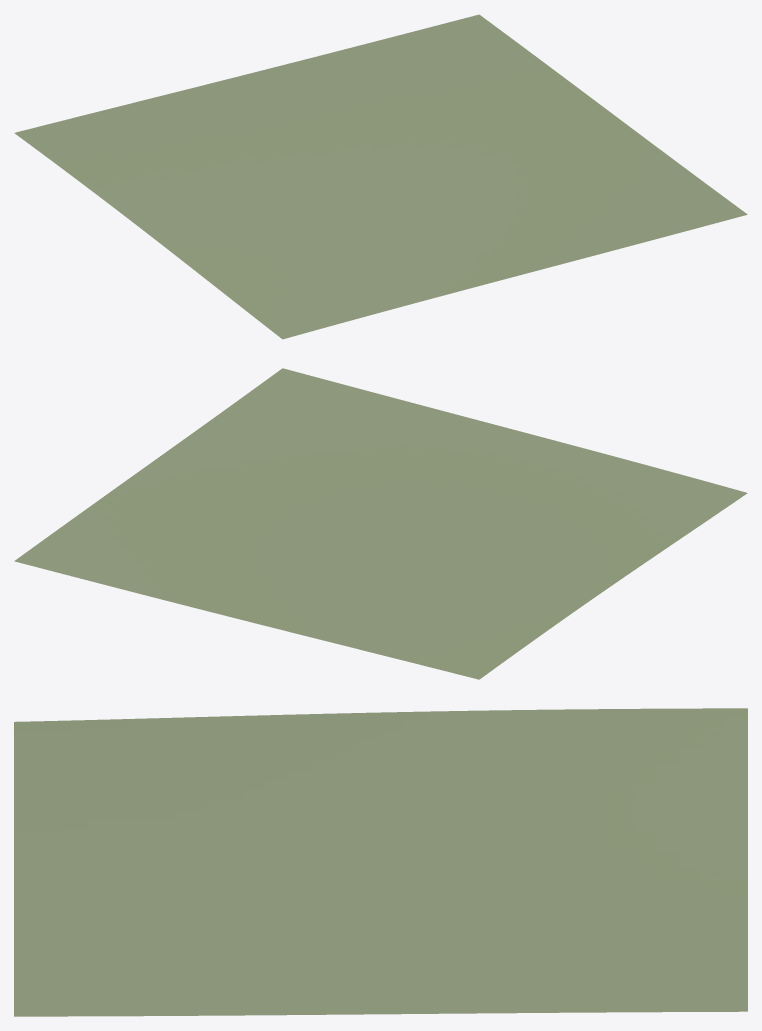
The model's file is desert-27-4.glb.
3 renders of one model, top to bottom at view 1: azimuth 30°, elevation 25°; view 2: azimuth 150°, elevation 25°; view 3: azimuth 270°, elevation 25°, orthographic. The views are drawn at different scales.
Visible parts, largest first — view 1: desert-27-4; view 2: desert-27-4; view 3: desert-27-4.
Part boxes in pixels (x1,y1,x2,y2): desert-27-4: (14,14,747,339); desert-27-4: (14,368,747,679); desert-27-4: (14,708,747,1016).
Bounding box in the file's own units: 512 × 15.6 × 512.
